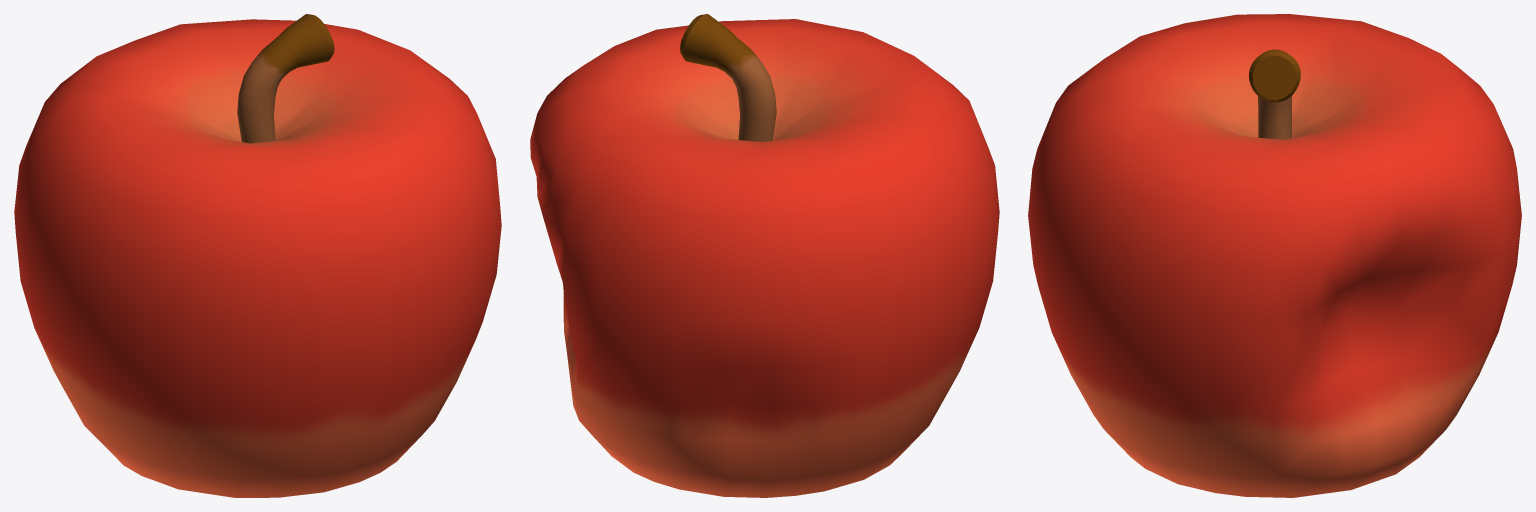
File: appleqaq.fbx
3 views of the same model, side by side, from view 1: azimuth 30°, elevation 25°; view 2: azimuth 150°, elevation 25°; view 3: azimuth 270°, elevation 25° (orthographic).
Parts seen in each view (by area): view 1: Cylinder; view 2: Cylinder; view 3: Cylinder.
Part boxes in pixels (bbox=[...]): Cylinder: bbox=[14, 14, 501, 497]; Cylinder: bbox=[530, 14, 999, 497]; Cylinder: bbox=[1028, 14, 1521, 497].
Size of the model in its own units: 232 by 218 by 232.
